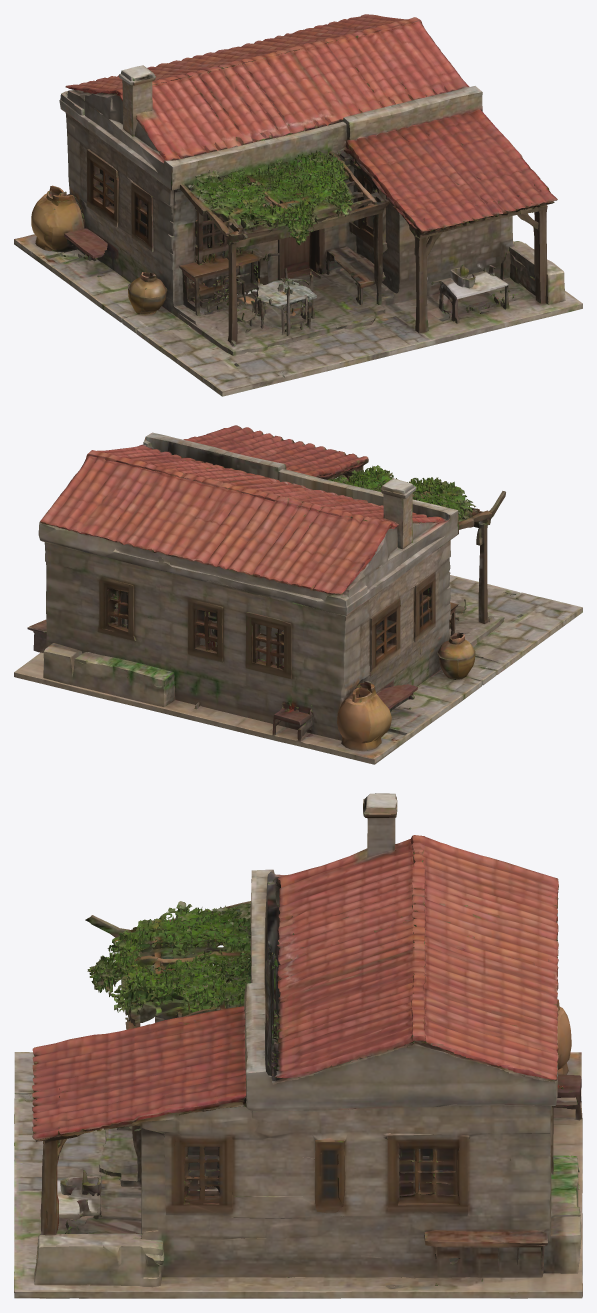
The model's file is house__greek-tavern_hq.glb.
3 renders of one model, top to bottom at view 1: azimuth 30°, elevation 25°; view 2: azimuth 150°, elevation 25°; view 3: azimuth 270°, elevation 25°, orthographic. The views are drawn at different scales.
Parts seen in each view (by area): view 1: Mesh_0; view 2: Mesh_0; view 3: Mesh_0.
Part boxes in pixels (x1=…): Mesh_0: x1=14, y1=14, x2=582, y2=396; Mesh_0: x1=14, y1=425, x2=582, y2=764; Mesh_0: x1=14, y1=793, x2=582, y2=1298.
Bounding box in the file's own units: 2 × 1.16 × 2.
1 material, 1 textured.
